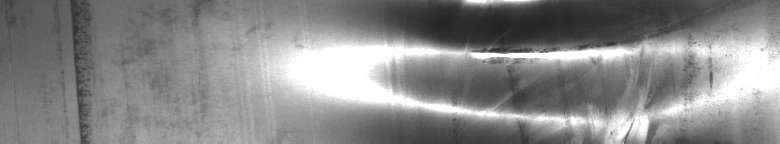ke: (412, 4, 713, 136)
